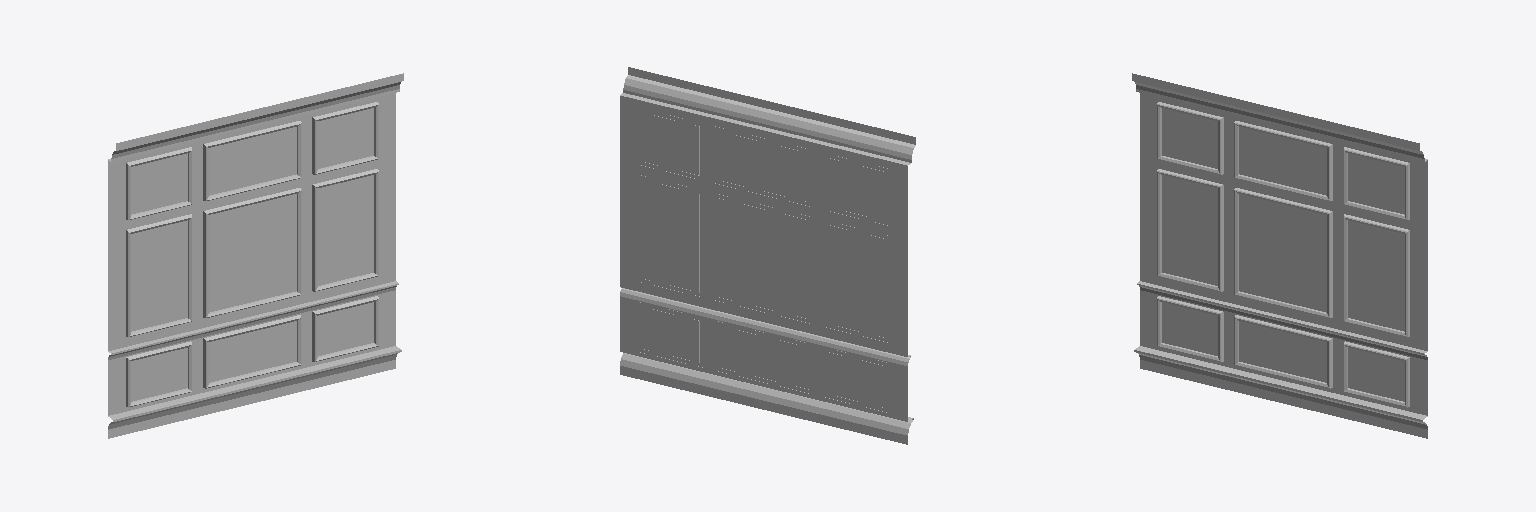
The model's file is mansion1_wall.obj.
3 views of the same model, side by side, from view 1: azimuth 30°, elevation 25°; view 2: azimuth 150°, elevation 25°; view 3: azimuth 330°, elevation 25° (orthographic).
Parts seen in each view (by area): view 1: mansionbase_default; view 2: mansionbase_default; view 3: mansionbase_default.
Boxes of the visible parts, x1,y1,x2,y2 form: mansionbase_default: [108, 73, 403, 438]; mansionbase_default: [620, 67, 915, 444]; mansionbase_default: [1132, 73, 1427, 438].
Bounding box in the file's own units: 4 × 4 × 0.2045.